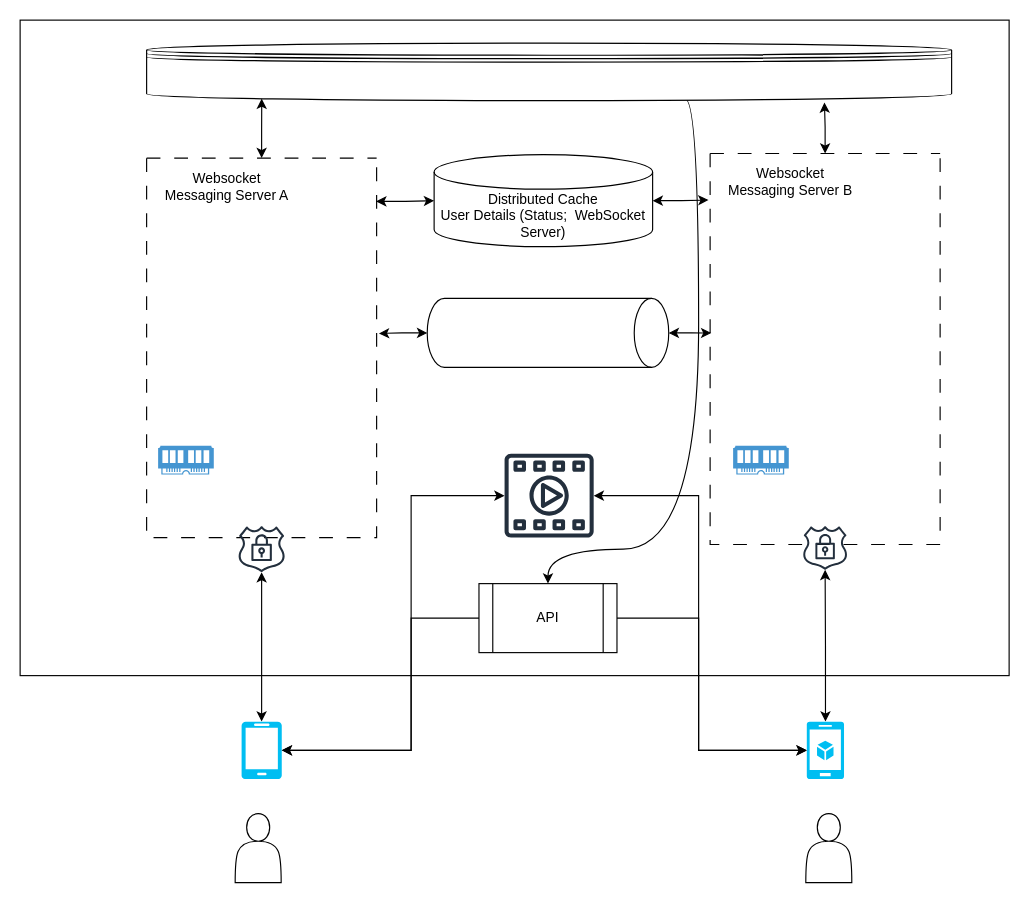
Image size: 1029x903. Some labels were removed from this diagram. The centre of each missing label's shape, as x and y in pixels:
Message Queue: (547,332)
Message with Metadata Persistence: (548,71)
